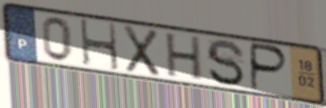0: (39, 15, 74, 63)
H: (78, 18, 121, 73), (165, 31, 204, 83)
P: (249, 41, 291, 93)
S: (204, 37, 248, 88)
X: (122, 23, 162, 79)
